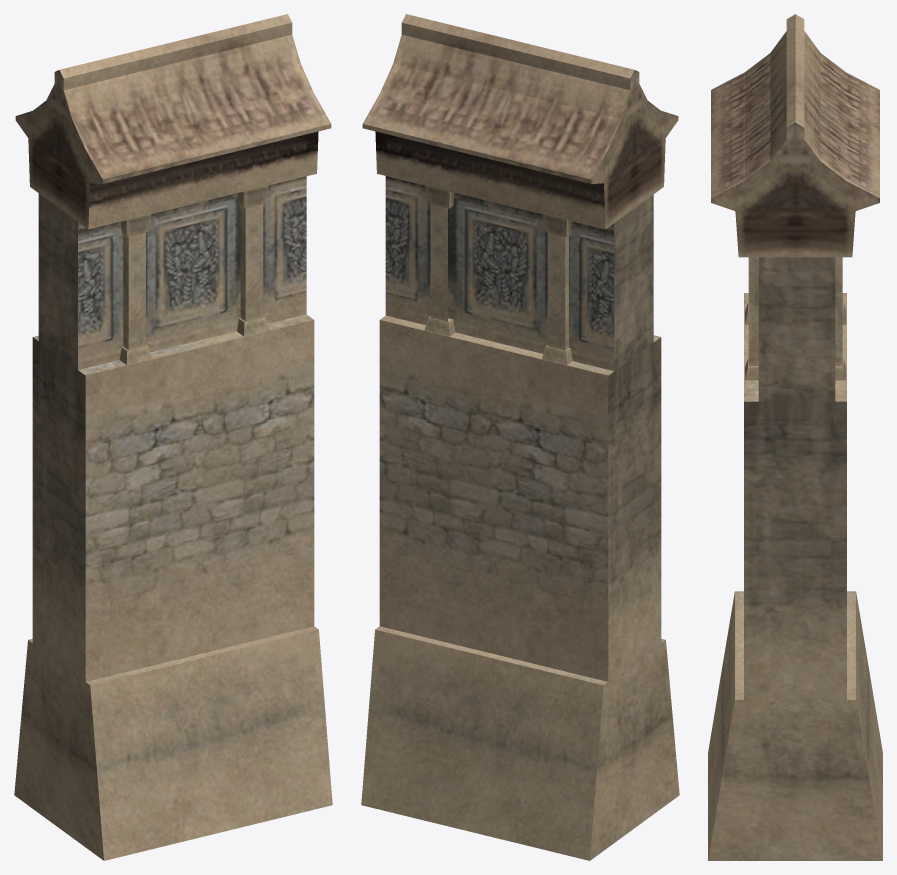
The model's file is desert-middledam-04.glb.
3 views of the same model, side by side, from view 1: azimuth 30°, elevation 25°; view 2: azimuth 150°, elevation 25°; view 3: azimuth 270°, elevation 25° (orthographic). The views are drawn at different scales.
Parts seen in each view (by area): view 1: desert-middledam-02; view 2: desert-middledam-02; view 3: desert-middledam-02.
Part boxes in pixels (bbox=[...]): desert-middledam-02: bbox=[14, 14, 332, 860]; desert-middledam-02: bbox=[361, 14, 679, 860]; desert-middledam-02: bbox=[708, 14, 882, 860].
Size of the model in its own units: 2.5 by 7.92 by 1.7.
1 material, 1 textured.
